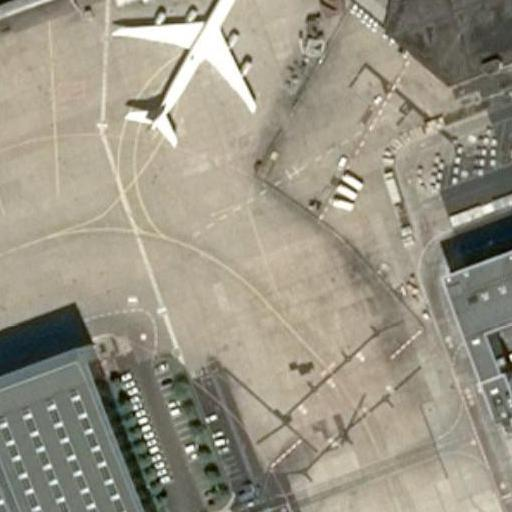Aircraft: (102, 0, 262, 155), (106, 0, 261, 147)
